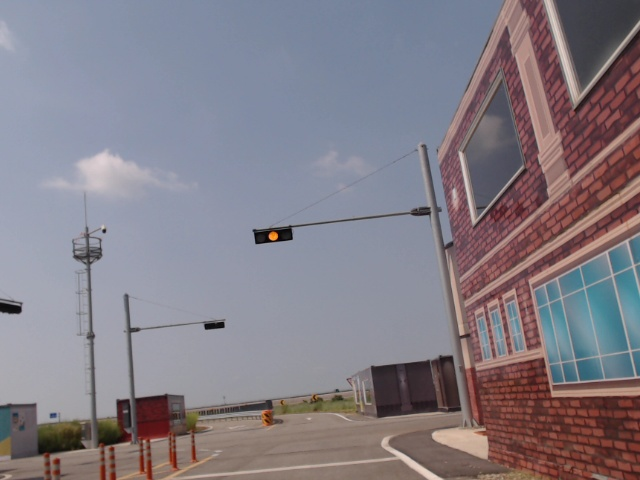orange_3: (252, 229, 294, 244)
